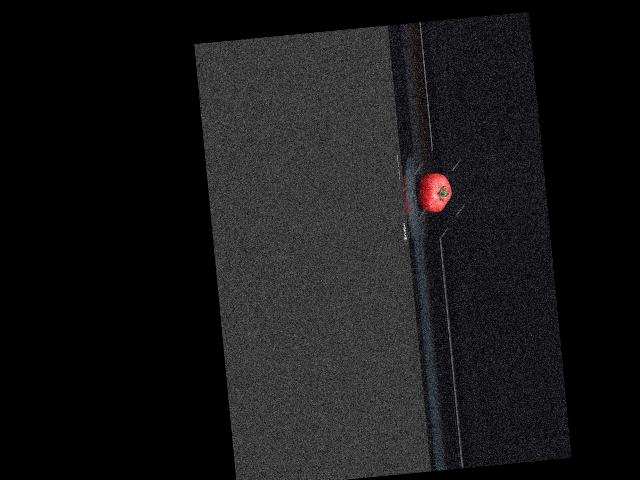tomato: (415, 171, 453, 213)
